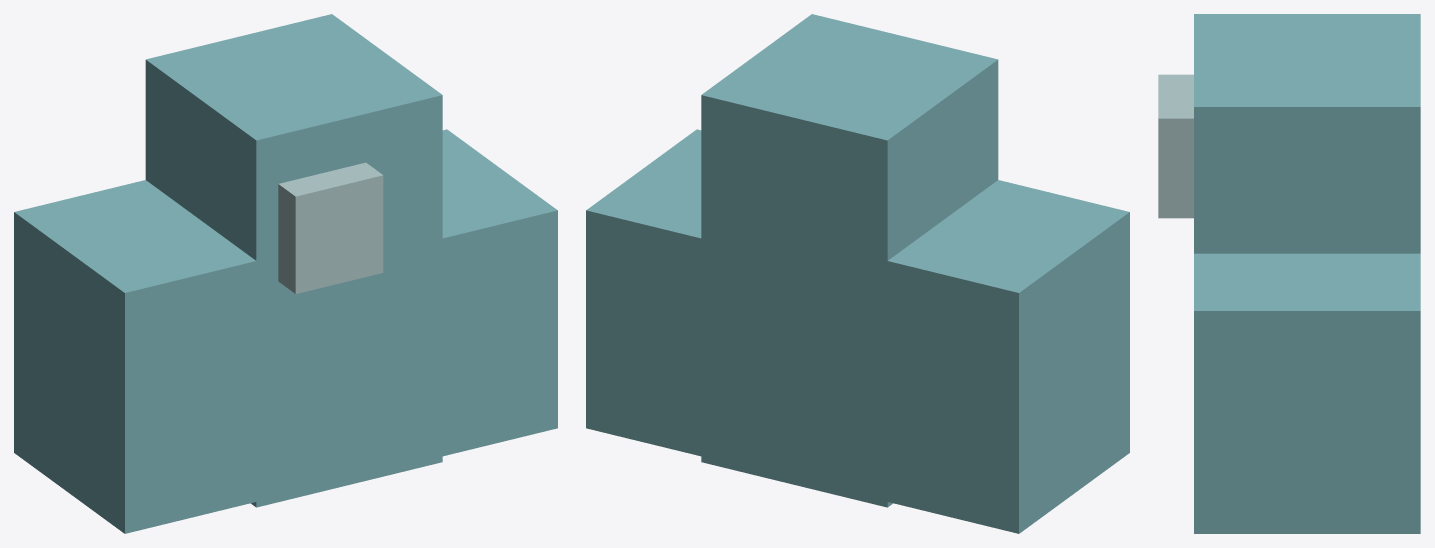
Rendered from dye_cyan.glb.
3 renders of one model, left to right at view 1: azimuth 30°, elevation 25°; view 2: azimuth 150°, elevation 25°; view 3: azimuth 270°, elevation 25°, orthographic. The views are drawn at different scales.
Visible parts, largest first — view 1: dye_cyan; view 2: dye_cyan; view 3: dye_cyan.
Part boxes in pixels (x1,y1,x2,y2): dye_cyan: [14, 14, 557, 533]; dye_cyan: [586, 14, 1129, 533]; dye_cyan: [1158, 14, 1420, 533].
Size of the model in its own units: 0.79 by 0.64 by 0.405.
